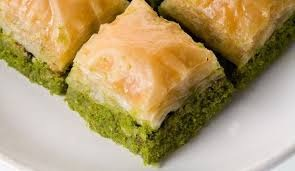baklava: (64, 1, 234, 162), (162, 0, 294, 87), (0, 1, 122, 86)
